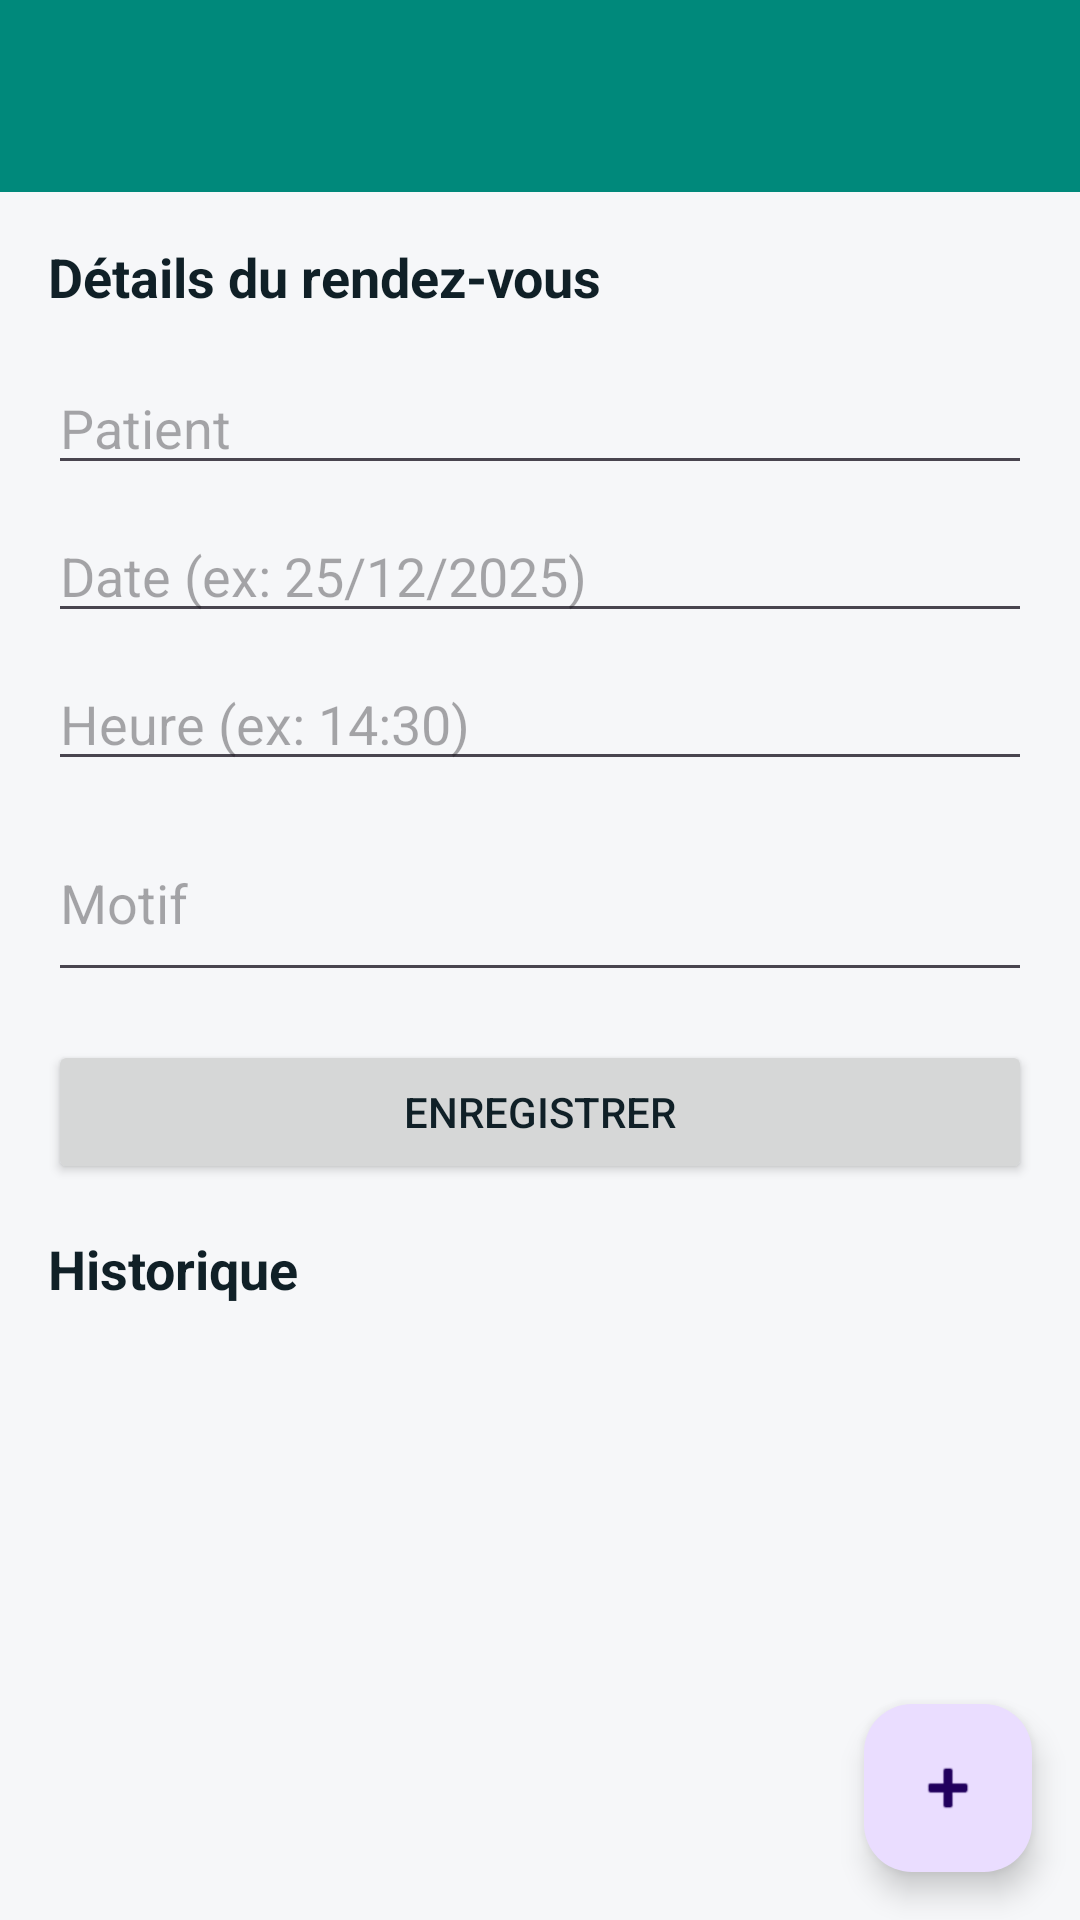

Where icons sit on this 1080×1920 app screen, as [x1=x1, y1=y1, x2=x2, y2=y2]:
Ajouter rendez-vous: [x1=864, y1=1704, x2=1032, y2=1872]
